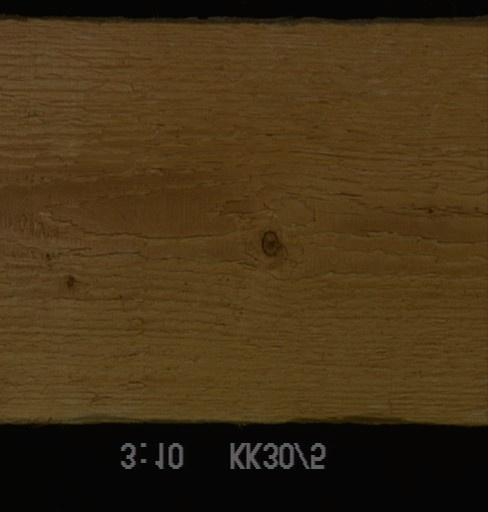dry_knot: (258, 227, 281, 260)
small_knot: (61, 274, 78, 293)
wave: (267, 412, 425, 424), (9, 409, 120, 424)
